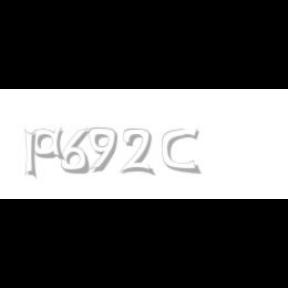2: (119, 128, 153, 176)
6: (61, 128, 90, 176)
9: (88, 128, 118, 172)
C: (162, 128, 199, 174)
I: (24, 128, 38, 180)
a: (33, 128, 70, 160)
